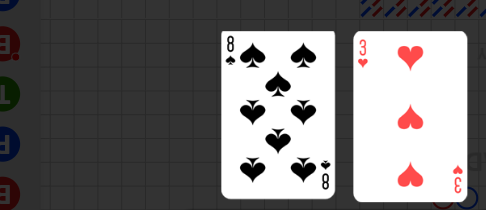10S: (225, 34, 238, 68)
3H: (451, 162, 464, 194)
